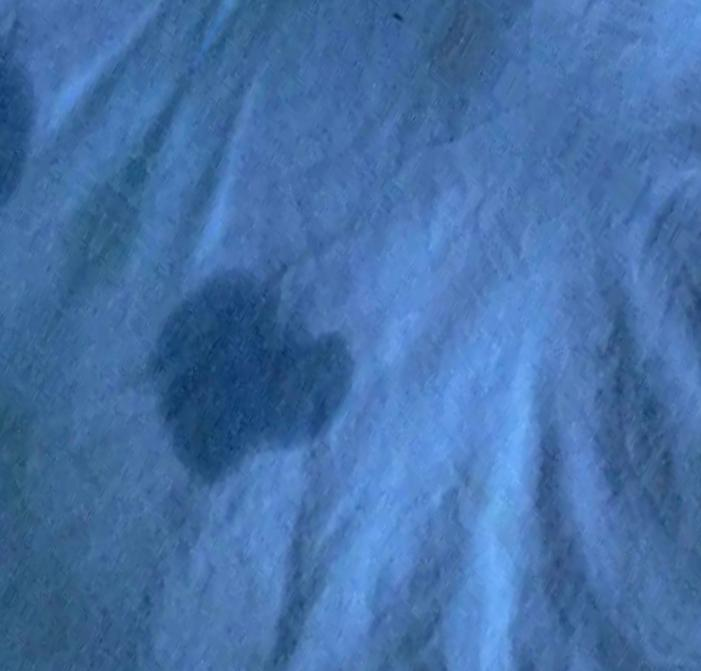stain: (153, 260, 363, 489), (0, 41, 46, 213)
